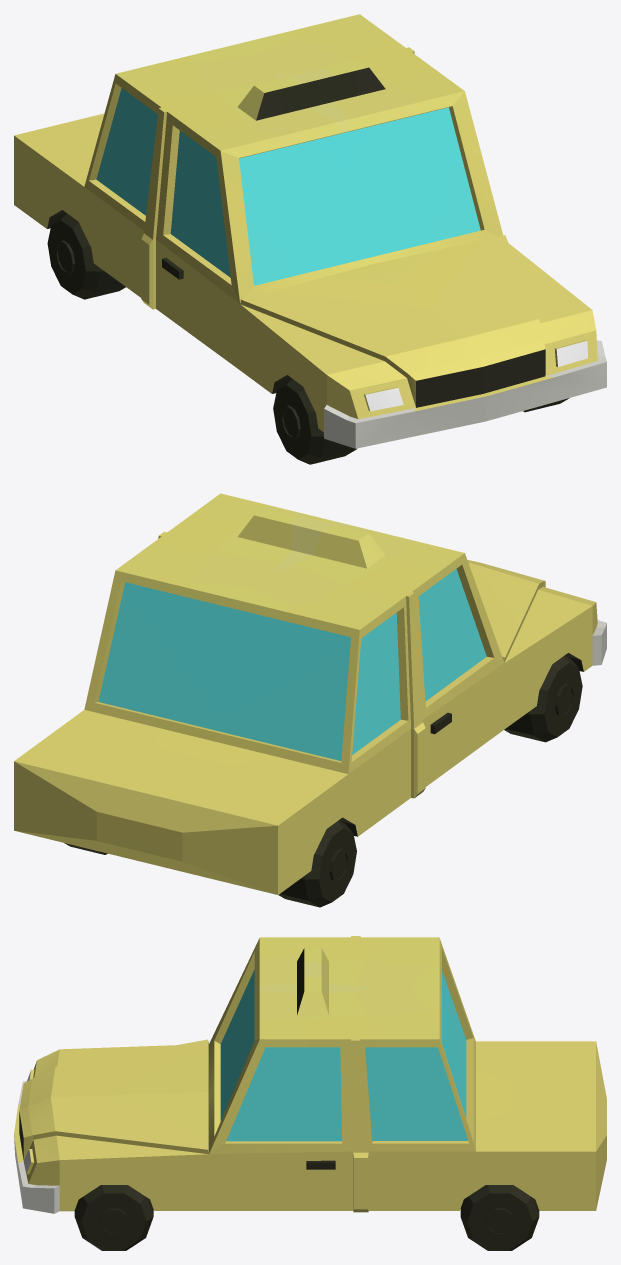
Rendered from taxi.glb.
3 renders of one model, top to bottom at view 1: azimuth 30°, elevation 25°; view 2: azimuth 150°, elevation 25°; view 3: azimuth 270°, elevation 25°, orthographic. The views are drawn at different scales.
Parts seen in each view (by area): view 1: Front Wheels; view 2: Front Wheels; view 3: Front Wheels.
Part boxes in pixels (x1,y1,x2,y2): Front Wheels: [14, 14, 606, 464]; Front Wheels: [14, 493, 606, 907]; Front Wheels: [14, 936, 606, 1250].
Size of the model in its own units: 0.5658 by 0.5207 by 1.22.
Materials: 2 (2 with a texture image).
